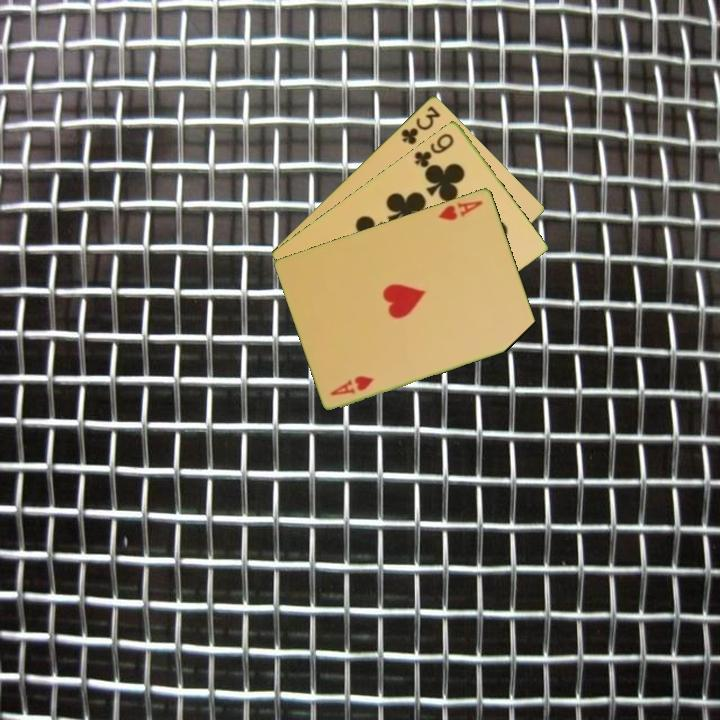3c: (397, 102, 443, 147)
9c: (411, 129, 457, 170)
Ah: (435, 197, 486, 223), (327, 372, 377, 398)
